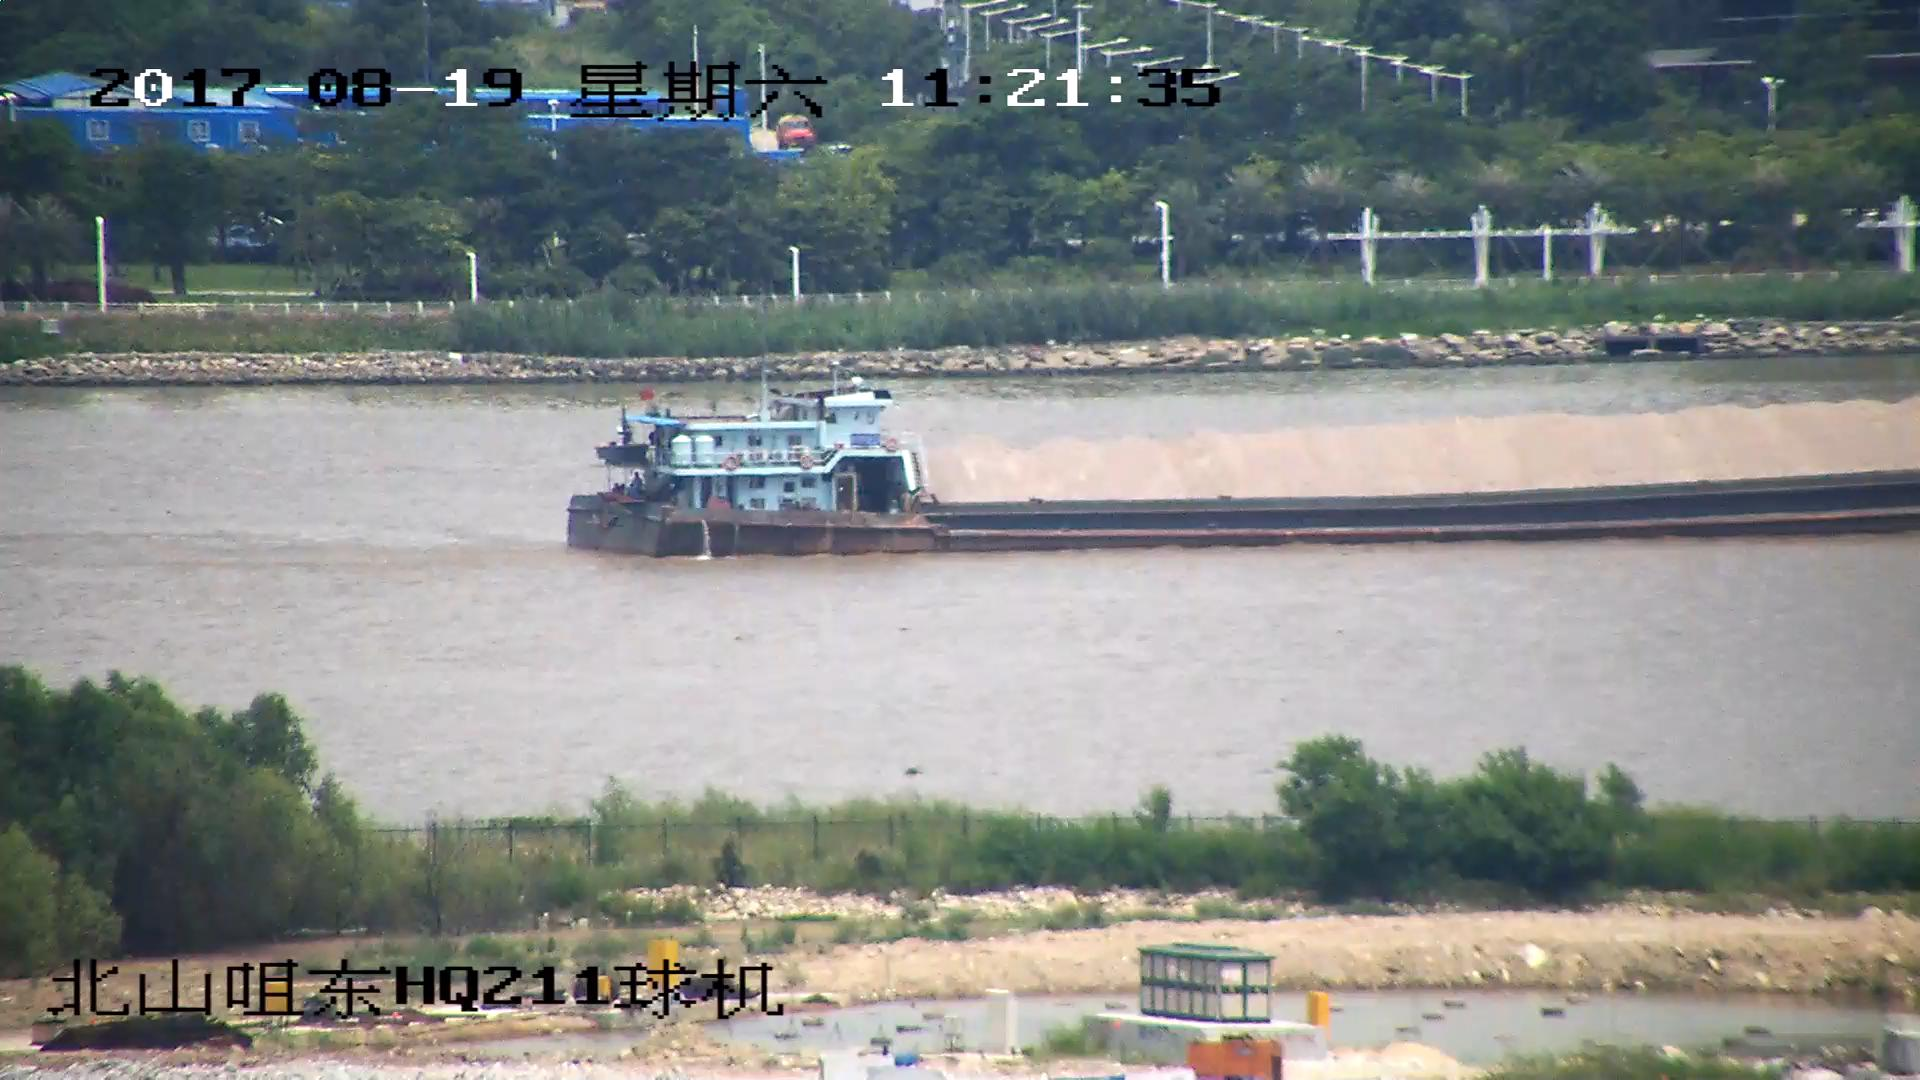ore carrier: (562, 380, 1920, 558)
